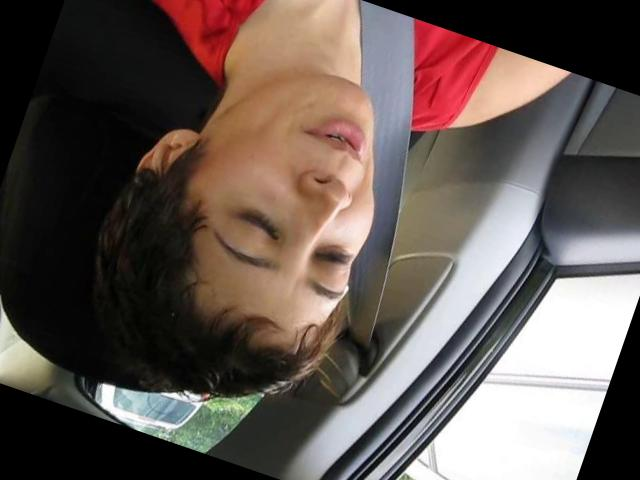eye_closed: (219, 196, 296, 254), (307, 232, 361, 282)
face: (186, 50, 420, 324)
